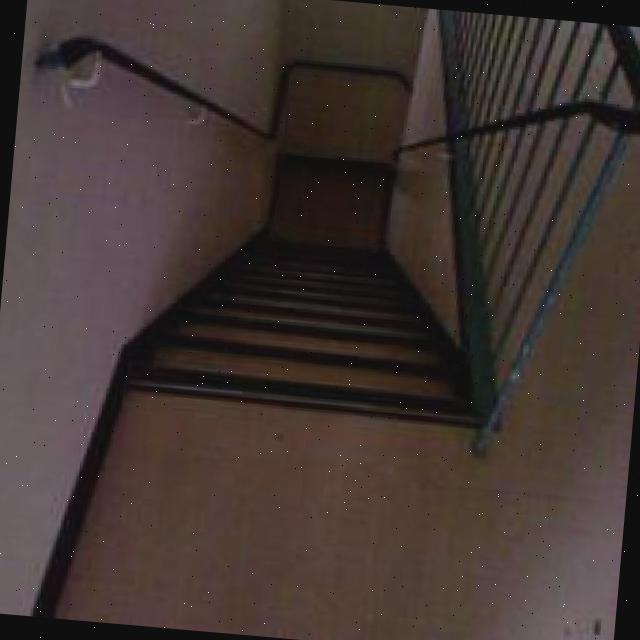stairs: (116, 215, 498, 429)
